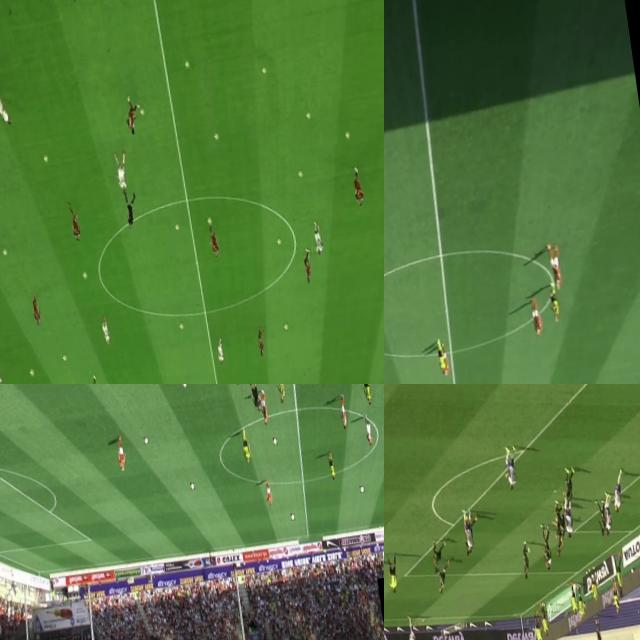ball: (262, 64, 268, 76), (214, 130, 221, 140), (305, 110, 312, 120), (175, 222, 180, 233), (290, 512, 296, 521), (184, 58, 189, 68), (2, 249, 8, 257), (62, 354, 68, 362), (190, 482, 195, 491), (140, 109, 146, 116), (298, 169, 302, 179), (30, 370, 35, 378), (272, 437, 277, 445), (284, 324, 290, 330), (82, 274, 88, 280), (179, 324, 184, 331), (44, 156, 49, 163), (144, 437, 148, 445), (278, 240, 282, 247), (182, 384, 189, 388), (360, 486, 364, 492)
player: (500, 439, 522, 493), (546, 242, 566, 293), (609, 469, 629, 515), (560, 465, 580, 509), (462, 513, 482, 556), (429, 537, 450, 575), (462, 508, 478, 554), (434, 558, 453, 594), (552, 520, 568, 562), (115, 154, 132, 193), (562, 499, 578, 540), (124, 98, 142, 134), (601, 496, 616, 538), (540, 524, 554, 568), (542, 530, 556, 574), (528, 298, 543, 338), (520, 540, 534, 581), (302, 244, 316, 284), (556, 507, 571, 544), (550, 503, 565, 538), (68, 203, 82, 240), (259, 389, 272, 428), (0, 82, 12, 124), (548, 284, 561, 322), (352, 167, 364, 208), (312, 222, 326, 256), (598, 502, 611, 538), (434, 338, 446, 376), (115, 437, 128, 472), (240, 427, 252, 462), (438, 341, 449, 378), (404, 617, 420, 640), (209, 225, 219, 258), (339, 396, 349, 428), (364, 416, 374, 447), (263, 478, 274, 506), (326, 451, 336, 480), (32, 296, 42, 324), (216, 338, 226, 364), (362, 384, 373, 407), (276, 384, 288, 403), (101, 319, 110, 344), (258, 331, 266, 356), (90, 374, 101, 384)
